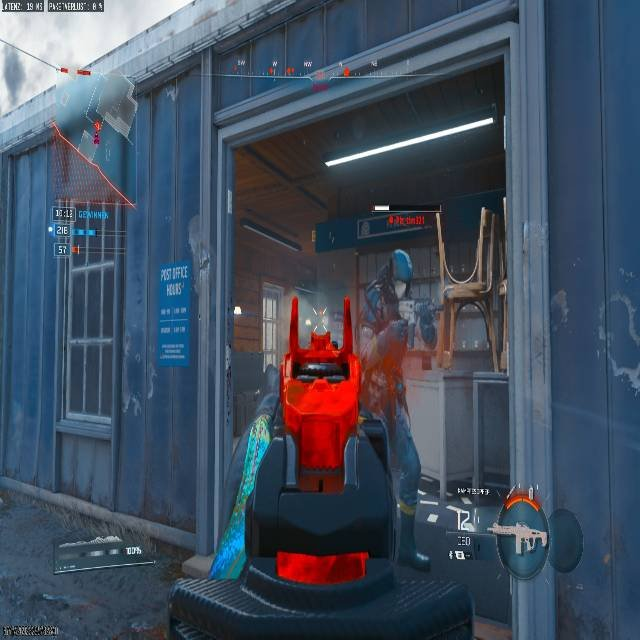head: (388, 248, 415, 291)
player: (333, 248, 433, 506)
